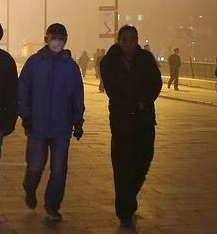person: (18, 23, 85, 220), (100, 24, 163, 226), (1, 23, 18, 147), (166, 46, 183, 92), (94, 48, 108, 93), (77, 51, 89, 77)
